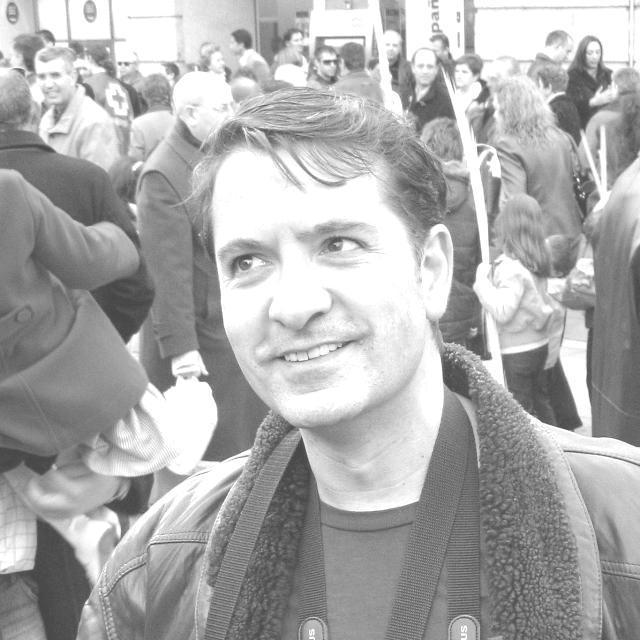real: (214, 166, 429, 433), (216, 204, 375, 287)
